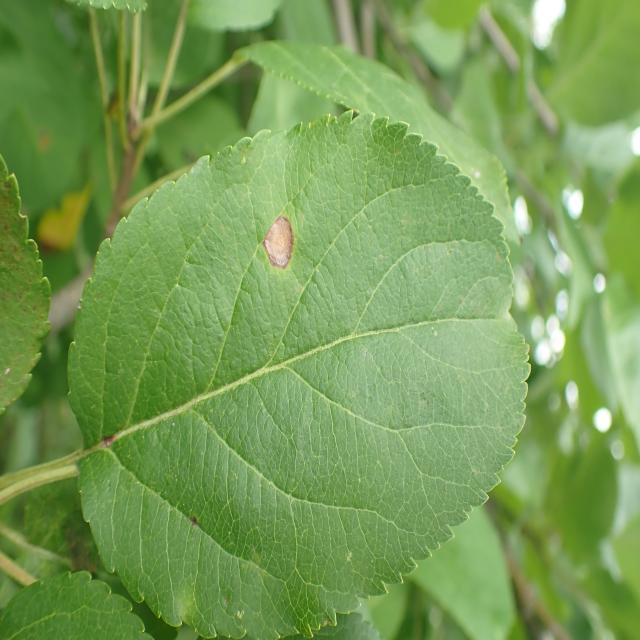Black Rot: (256, 195, 316, 311)
